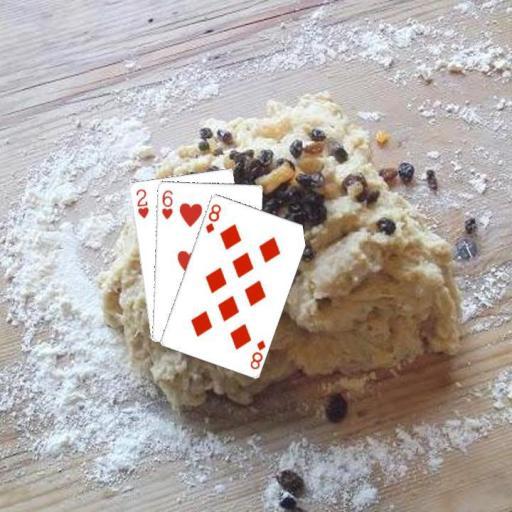2H: (132, 186, 150, 220)
6H: (158, 187, 173, 221)
8D: (202, 201, 223, 235), (247, 337, 267, 371)
